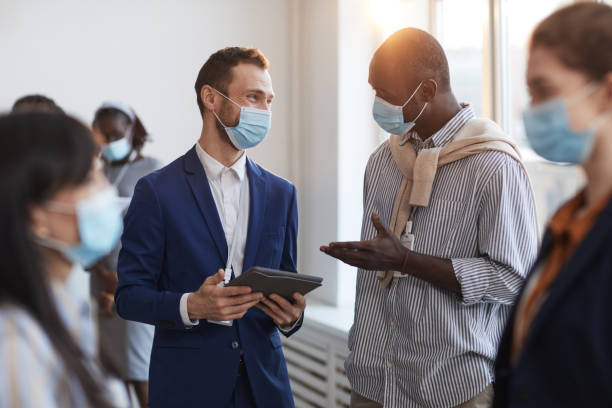with mask: (1, 126, 140, 299), (519, 17, 612, 171), (182, 47, 289, 177), (357, 27, 459, 143), (85, 85, 146, 159)
